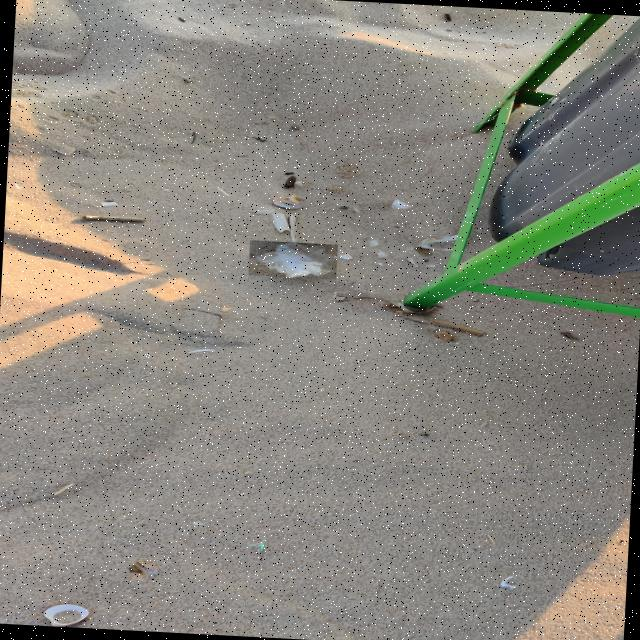Plastic film: (249, 242, 337, 277)
